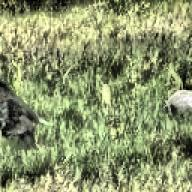boar: (0, 71, 46, 148)
